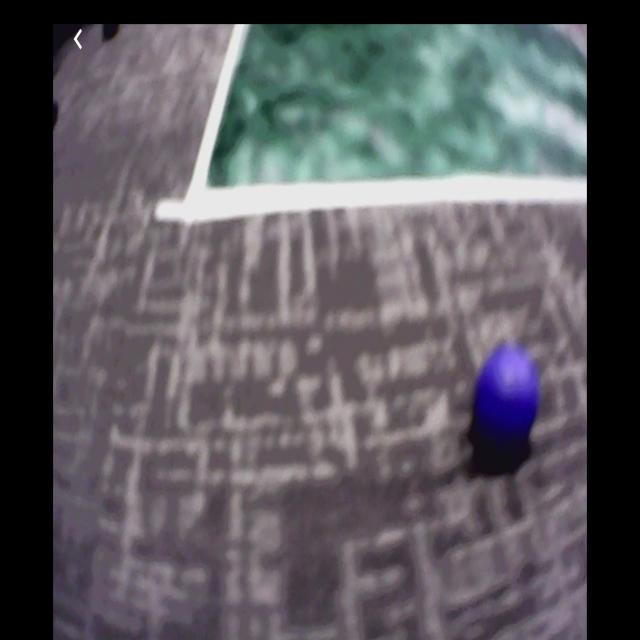ball: (479, 345, 541, 446)
